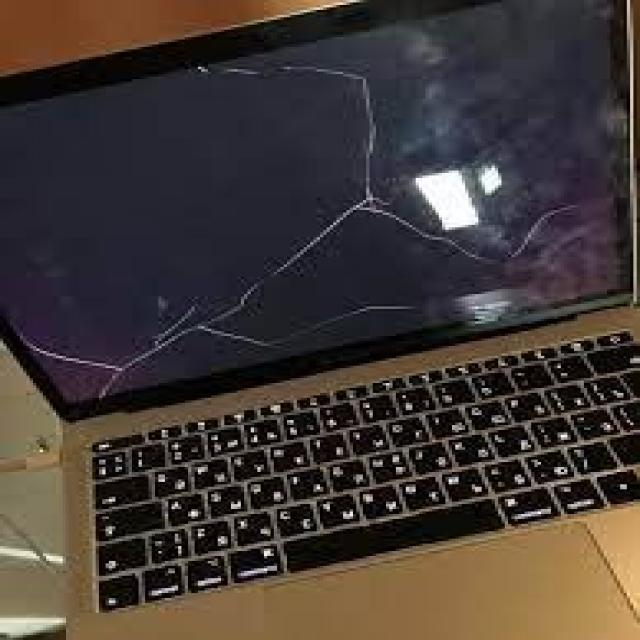Screen cracks: (0, 46, 515, 406)
